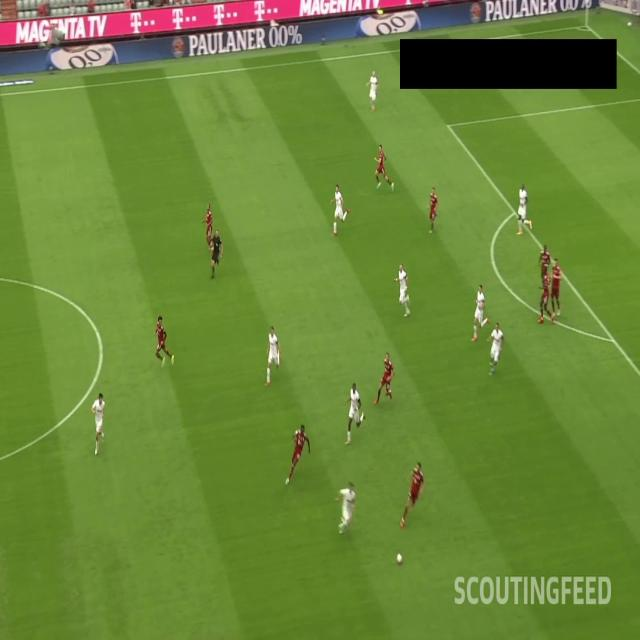ball: (395, 548, 403, 568)
player: (399, 456, 426, 532), (283, 420, 311, 488), (344, 382, 367, 450), (152, 314, 178, 373), (332, 478, 358, 537), (469, 280, 492, 346), (261, 323, 283, 387), (393, 259, 413, 320), (374, 349, 395, 407), (90, 391, 108, 458), (330, 181, 350, 238), (373, 142, 395, 191), (486, 320, 504, 378), (516, 182, 534, 238), (538, 270, 556, 326), (200, 199, 217, 255), (548, 254, 563, 315), (424, 186, 441, 236), (537, 242, 552, 293), (367, 65, 379, 109)
referee: (208, 228, 223, 282)
